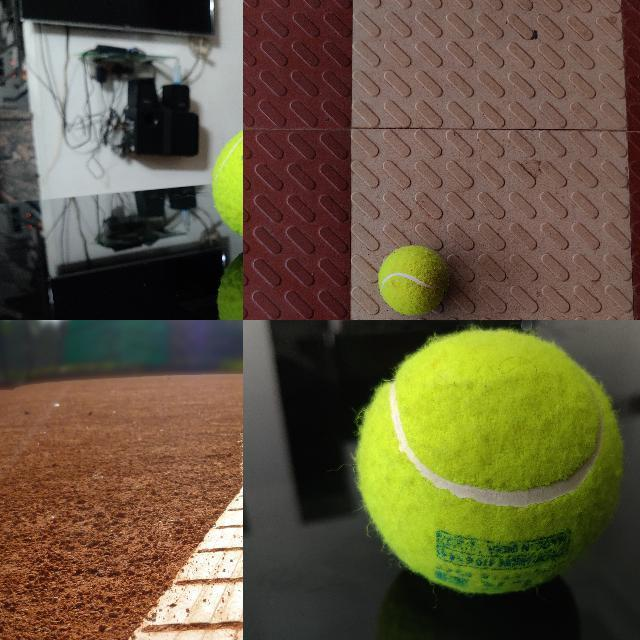tennis-ball: (353, 328, 623, 596), (378, 245, 448, 315), (211, 121, 242, 246)
